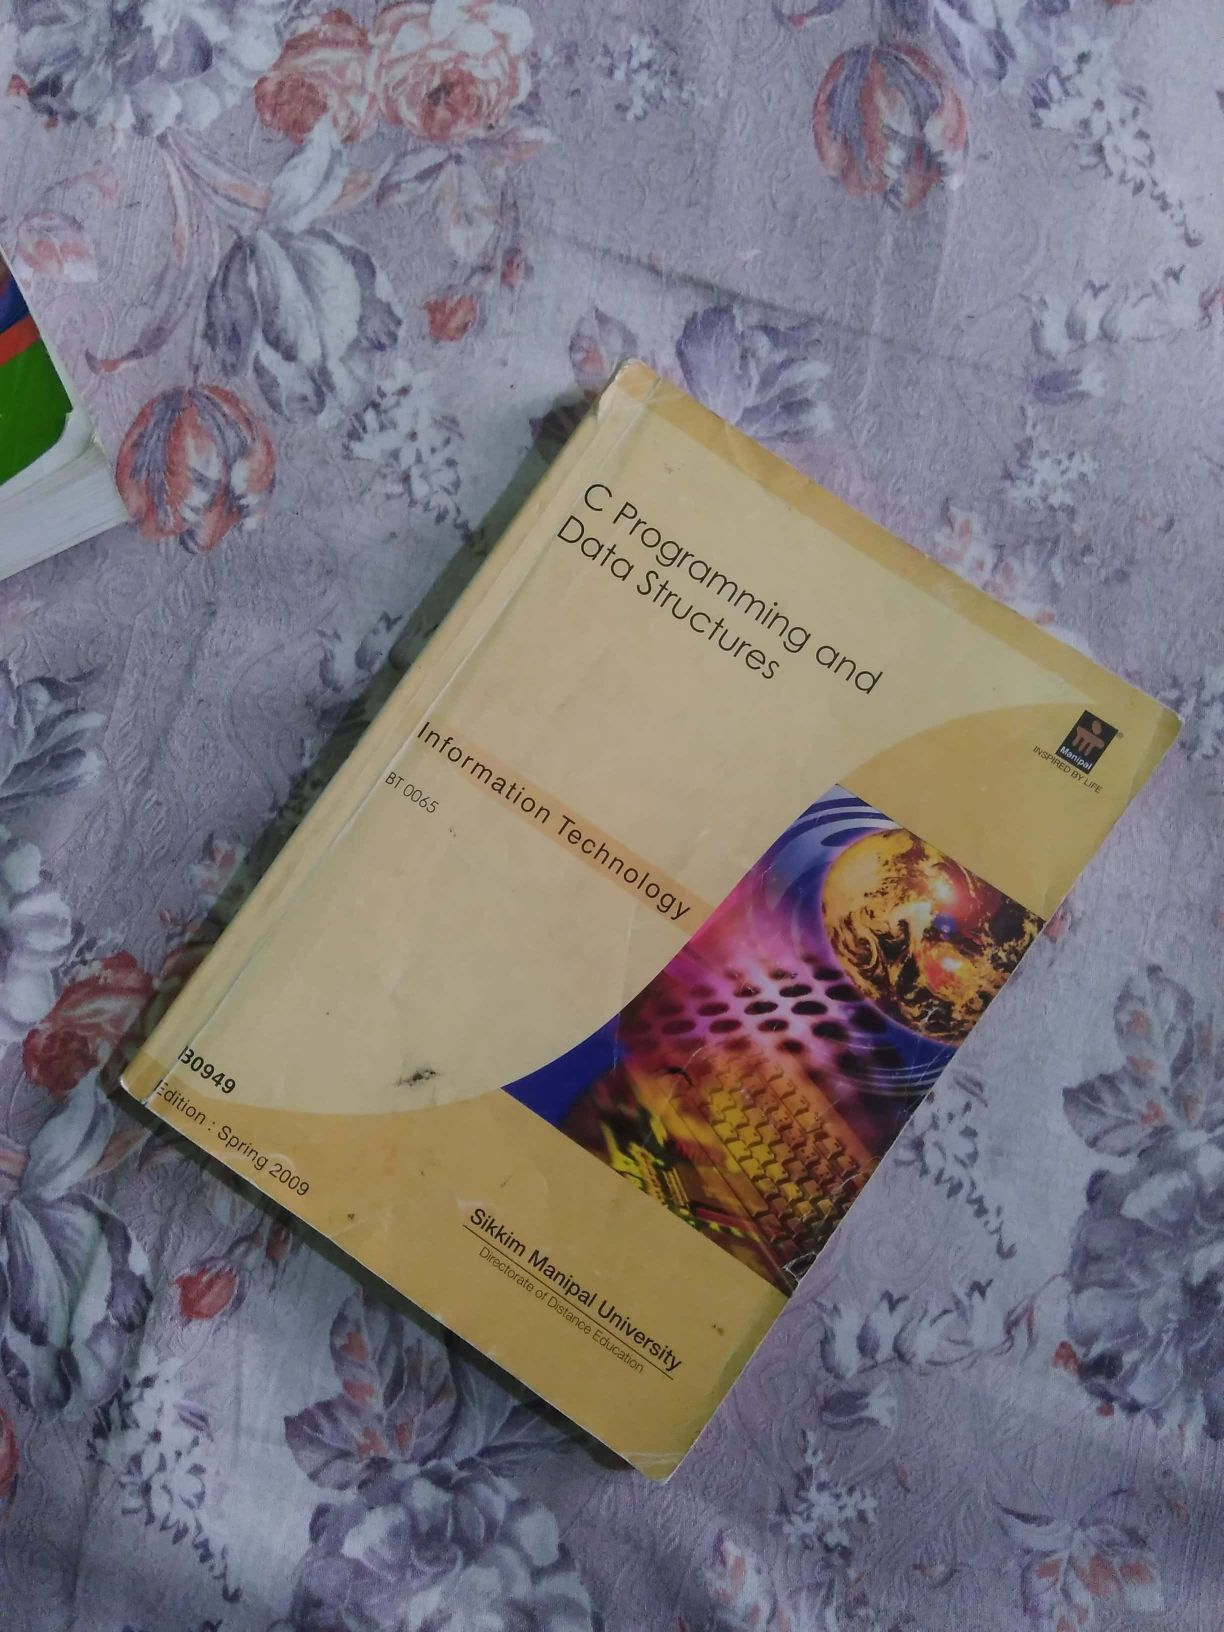clang: (239, 378, 1142, 1381)
